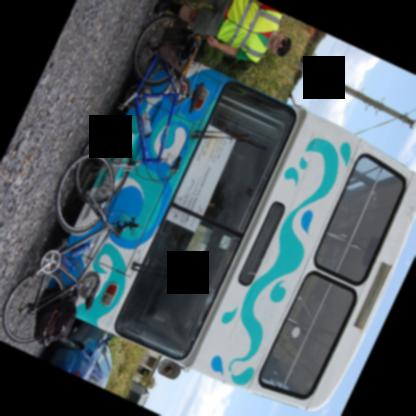backpack: (156, 24, 200, 75), (32, 300, 77, 347)
